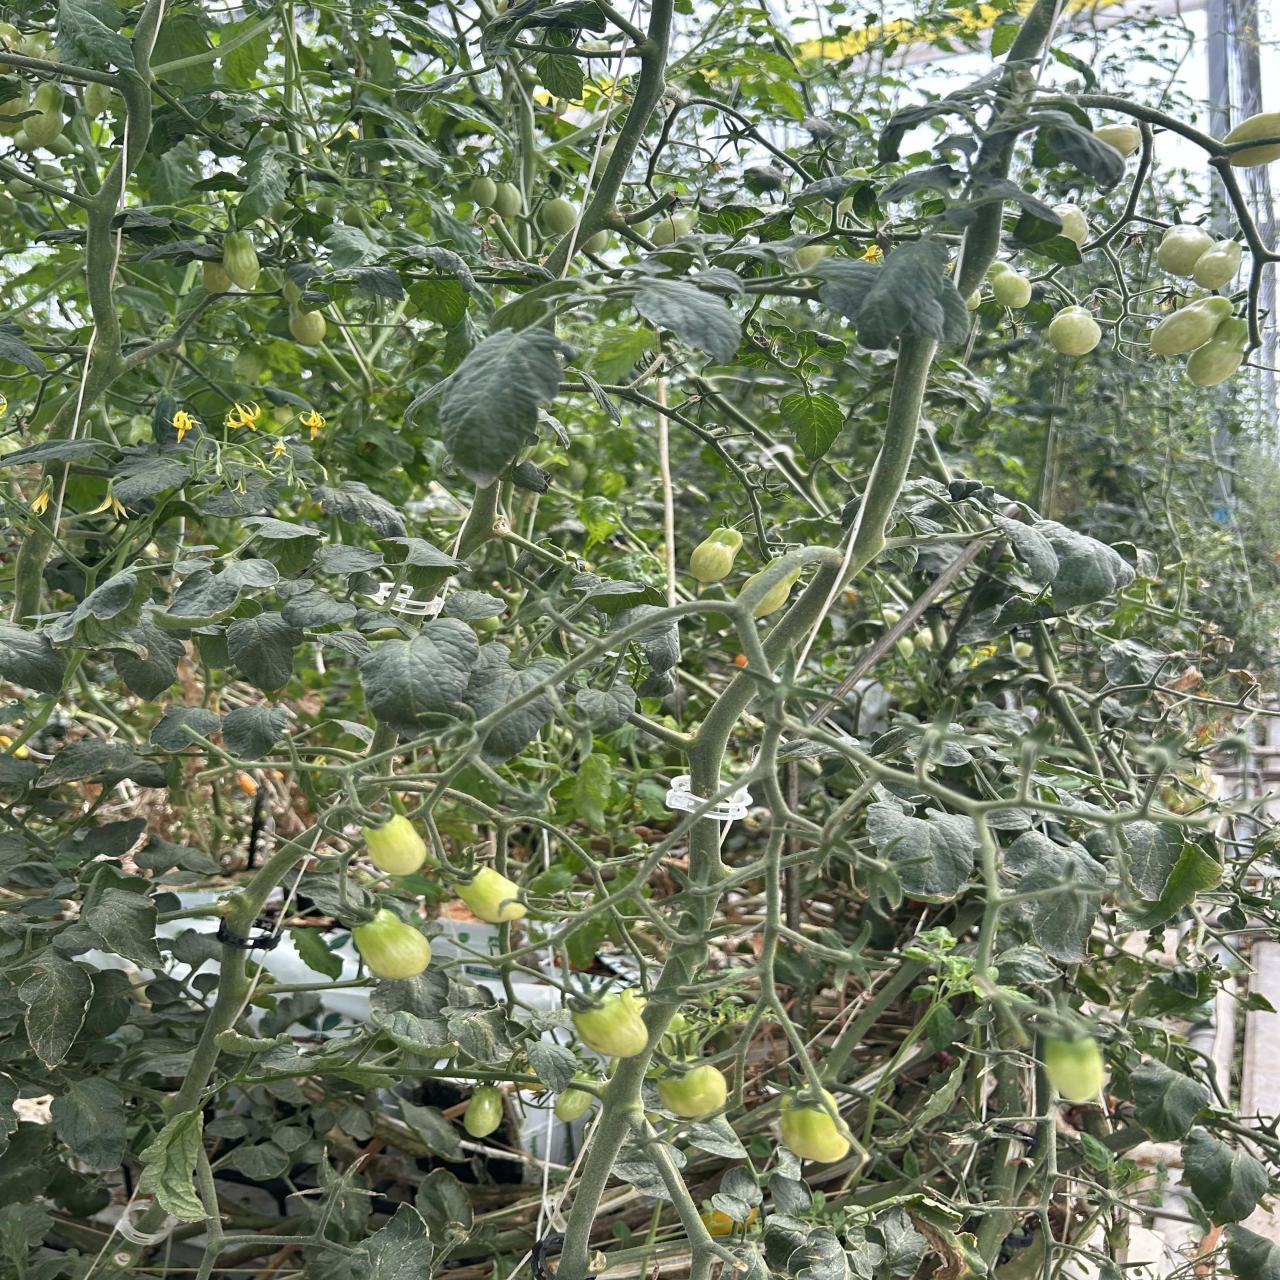Flor: (224, 403, 261, 429), (171, 410, 197, 442), (299, 409, 326, 438)
Hoja: (440, 326, 568, 486), (809, 241, 961, 348), (360, 619, 479, 728), (865, 802, 978, 903), (226, 612, 304, 692), (280, 591, 356, 629)
Pedunculo: (560, 336, 939, 1280), (544, 0, 674, 278), (639, 1116, 735, 1261), (81, 159, 123, 409), (118, 0, 162, 171), (692, 1259, 708, 1280)
Tomate: (237, 771, 259, 795)
Tomate Rugoso: (352, 910, 431, 980), (572, 989, 647, 1057), (1150, 297, 1233, 356), (1187, 316, 1248, 386), (361, 813, 427, 876), (456, 867, 527, 924), (1044, 1037, 1107, 1102), (778, 1107, 849, 1163), (659, 1065, 728, 1118), (689, 527, 743, 584), (1223, 114, 1280, 166), (1157, 225, 1216, 277), (1044, 306, 1102, 356), (1193, 240, 1244, 291), (985, 260, 1032, 308), (223, 232, 260, 288), (463, 1087, 503, 1137), (1094, 124, 1142, 157), (1053, 204, 1089, 246), (538, 198, 578, 234), (554, 1088, 594, 1123), (290, 311, 326, 346), (492, 182, 523, 218), (202, 261, 232, 292), (470, 177, 496, 207)
